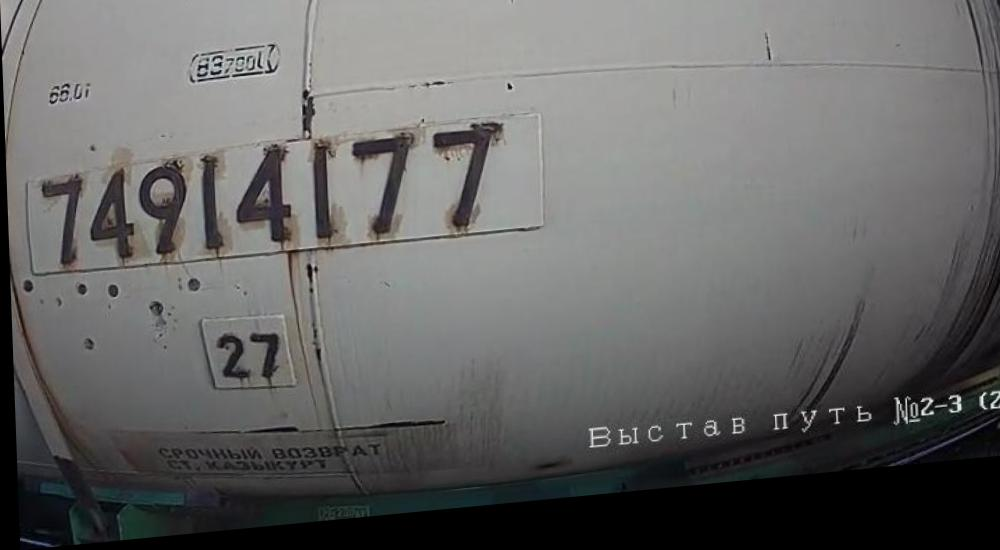Wagon-number: (38, 127, 507, 276)
